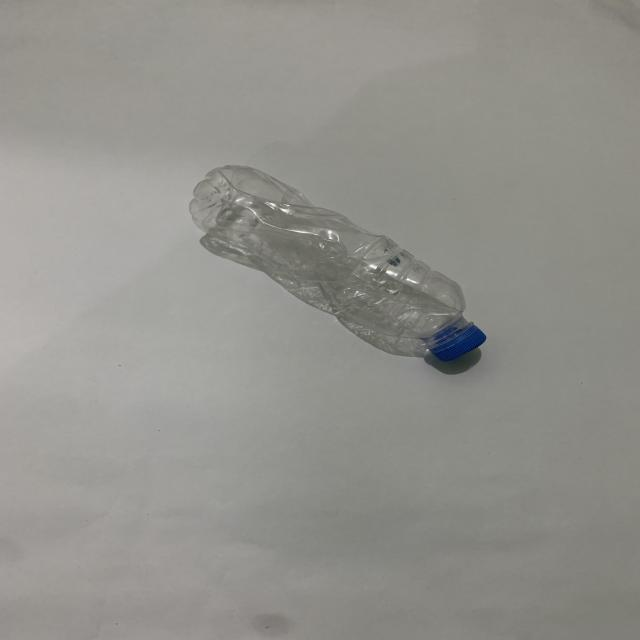bottle: (174, 158, 503, 372)
